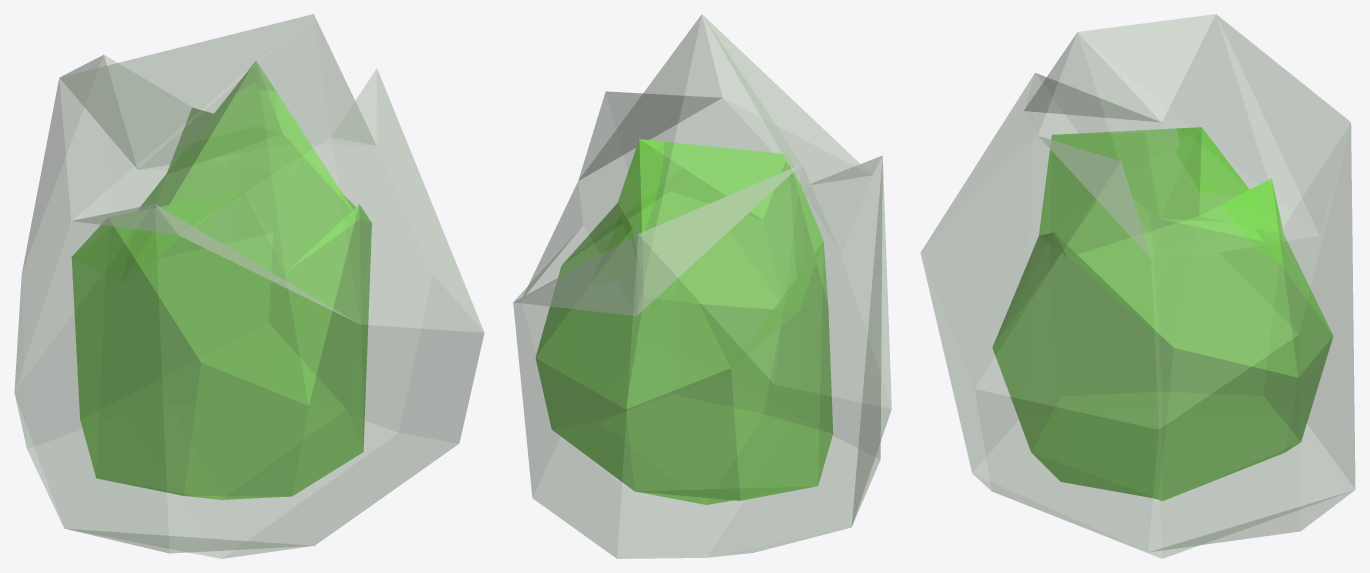
The model's file is wind.fbx.
3 views of the same model, side by side, from view 1: azimuth 30°, elevation 25°; view 2: azimuth 150°, elevation 25°; view 3: azimuth 270°, elevation 25° (orthographic). The views are drawn at different scales.
Visible parts, largest first — view 1: Wind; view 2: Wind; view 3: Wind.
Boxes of the visible parts, left/top/right/bottom form: Wind: left=14, top=14, right=484, bottom=558; Wind: left=513, top=14, right=891, bottom=558; Wind: left=920, top=14, right=1355, bottom=558.
Size of the model in its own units: 39.05 by 50.57 by 36.24.
